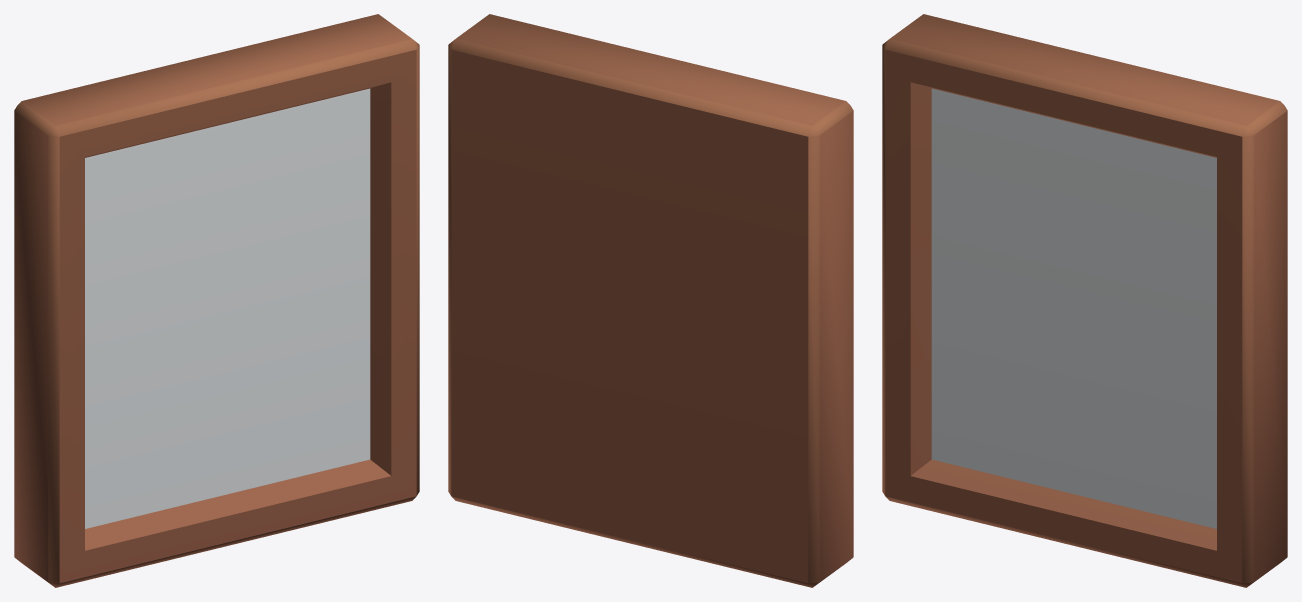
The model's file is pictureframe-large-a.glb.
3 views of the same model, side by side, from view 1: azimuth 30°, elevation 25°; view 2: azimuth 150°, elevation 25°; view 3: azimuth 330°, elevation 25° (orthographic).
Parts seen in each view (by area): view 1: pictureframe_large_A; view 2: pictureframe_large_A; view 3: pictureframe_large_A.
Part boxes in pixels (x1,y1,x2,y2): pictureframe_large_A: (14, 14, 419, 587); pictureframe_large_A: (448, 14, 853, 587); pictureframe_large_A: (882, 14, 1287, 587).
Size of the model in its own units: 1.01 by 1.2 by 0.2.
